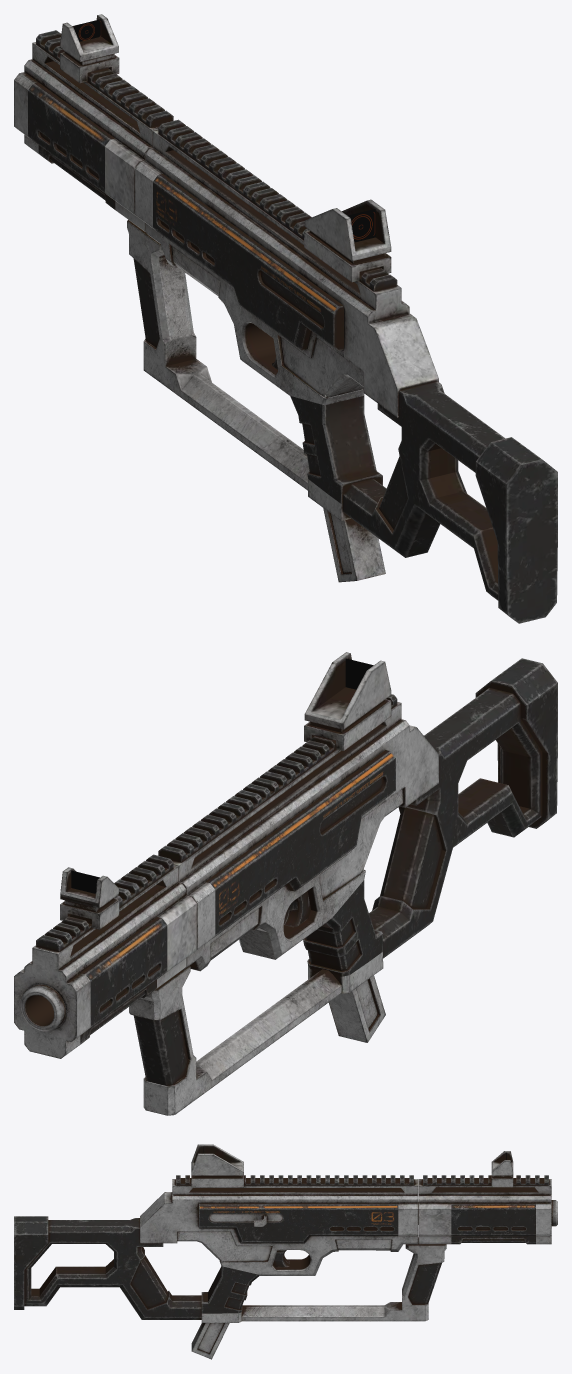
3 views of the same model, one above another, from view 1: azimuth 30°, elevation 25°; view 2: azimuth 150°, elevation 25°; view 3: azimuth 270°, elevation 25° (orthographic). The views are drawn at different scales.
Visible parts, largest first — view 1: Body, Mag; view 2: Body, Mag, Trigger; view 3: Body, Mag, Charger.
Boxes of the visible parts, <box> form: Body: <box>14,14,557,623</box>; Mag: <box>323,508,385,582</box>; Body: <box>14,652,557,1115</box>; Mag: <box>328,975,385,1042</box>; Trigger: <box>283,891,310,927</box>; Body: <box>14,1144,557,1322</box>; Mag: <box>191,1323,229,1359</box>; Charger: <box>209,1214,282,1226</box>.
Bounding box in the file's own units: 0.081 × 0.3422 × 0.8187.
3 materials, 3 textured.
